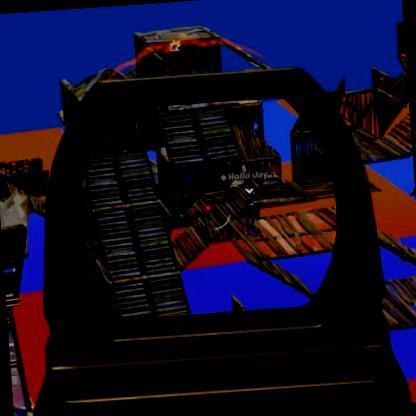person: (239, 194, 266, 242)
